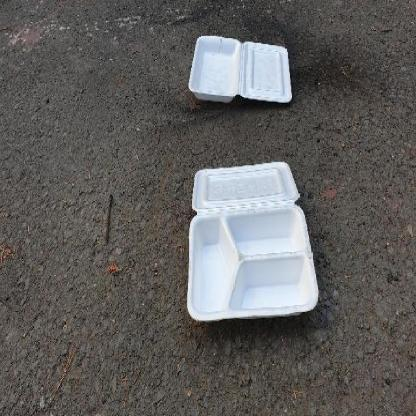Glass Cup: (188, 159, 318, 322), (188, 161, 318, 320), (188, 35, 292, 104), (189, 35, 292, 101)
